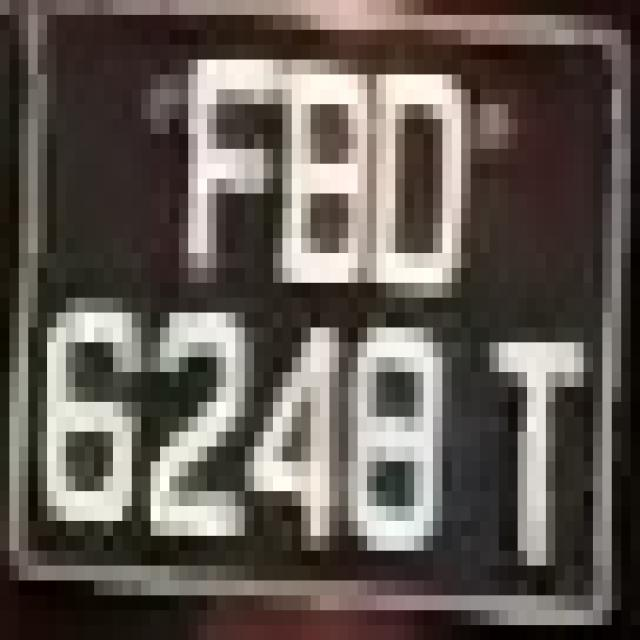2: (141, 268, 254, 580)
4: (216, 312, 358, 580)
6: (28, 253, 132, 551)
8: (329, 283, 433, 580)
B: (273, 30, 367, 312)
D: (358, 15, 470, 283)
F: (160, 15, 264, 298)
T: (462, 282, 602, 566)
